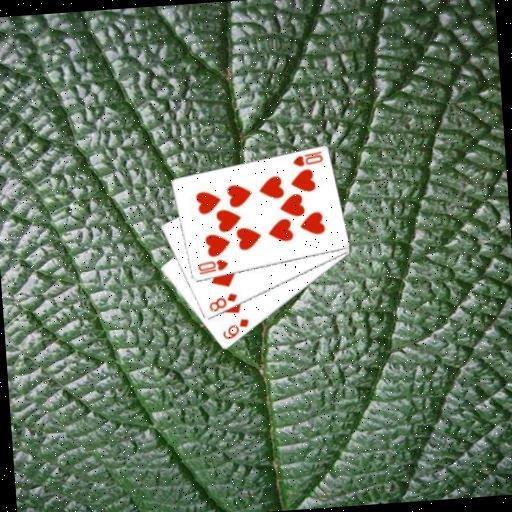10H: (194, 256, 230, 277), (289, 148, 325, 169)
6D: (218, 315, 251, 342)
8D: (205, 290, 240, 314)
